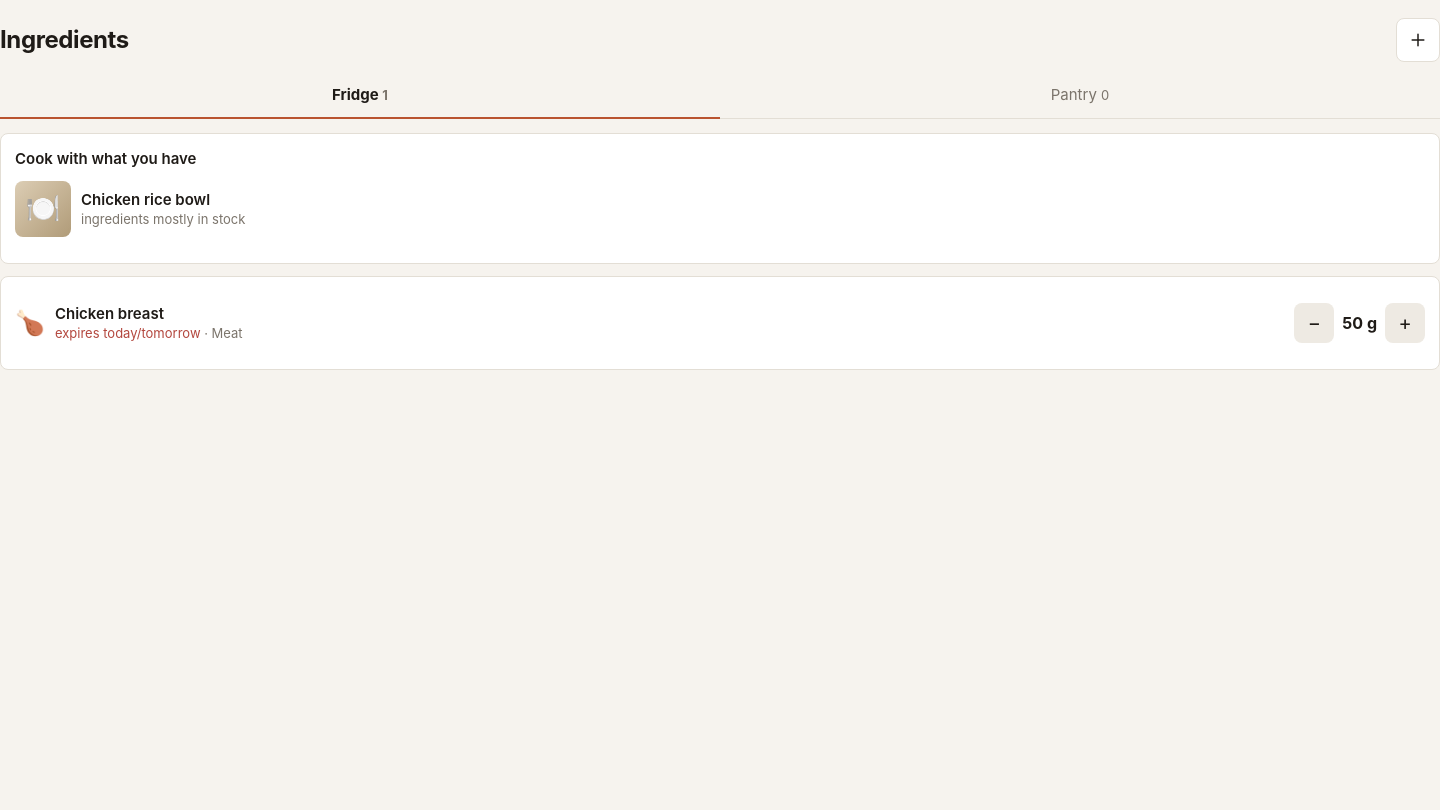
Test: IngredientsPage › "Keep it" closes the sheet without changes
Click the button named "Less Chicken breast" at [1314, 323], box top-left (1294, 303), bottom-right (1334, 343)
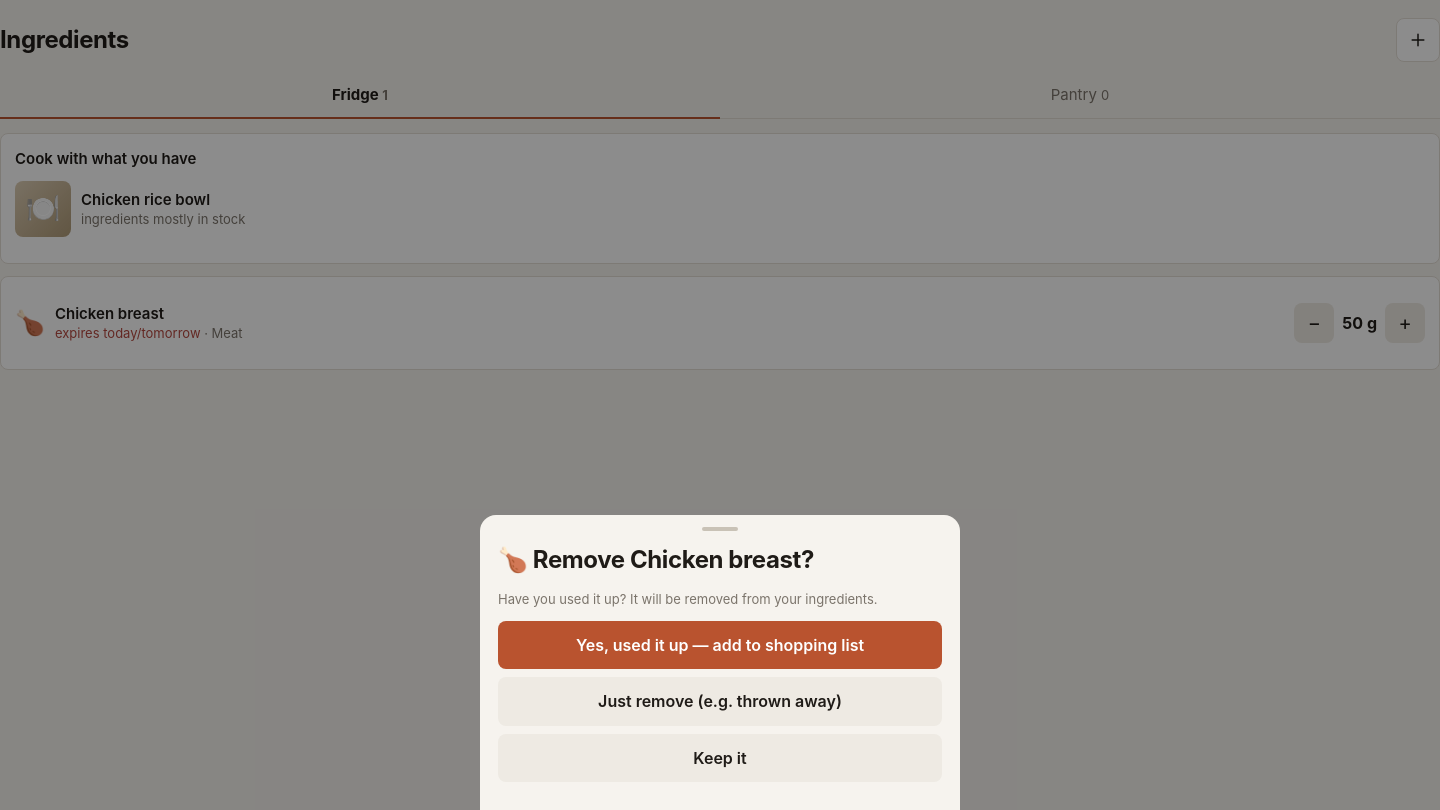
Click the button "Keep it" at [720, 758], box top-left (498, 734), bottom-right (942, 782)
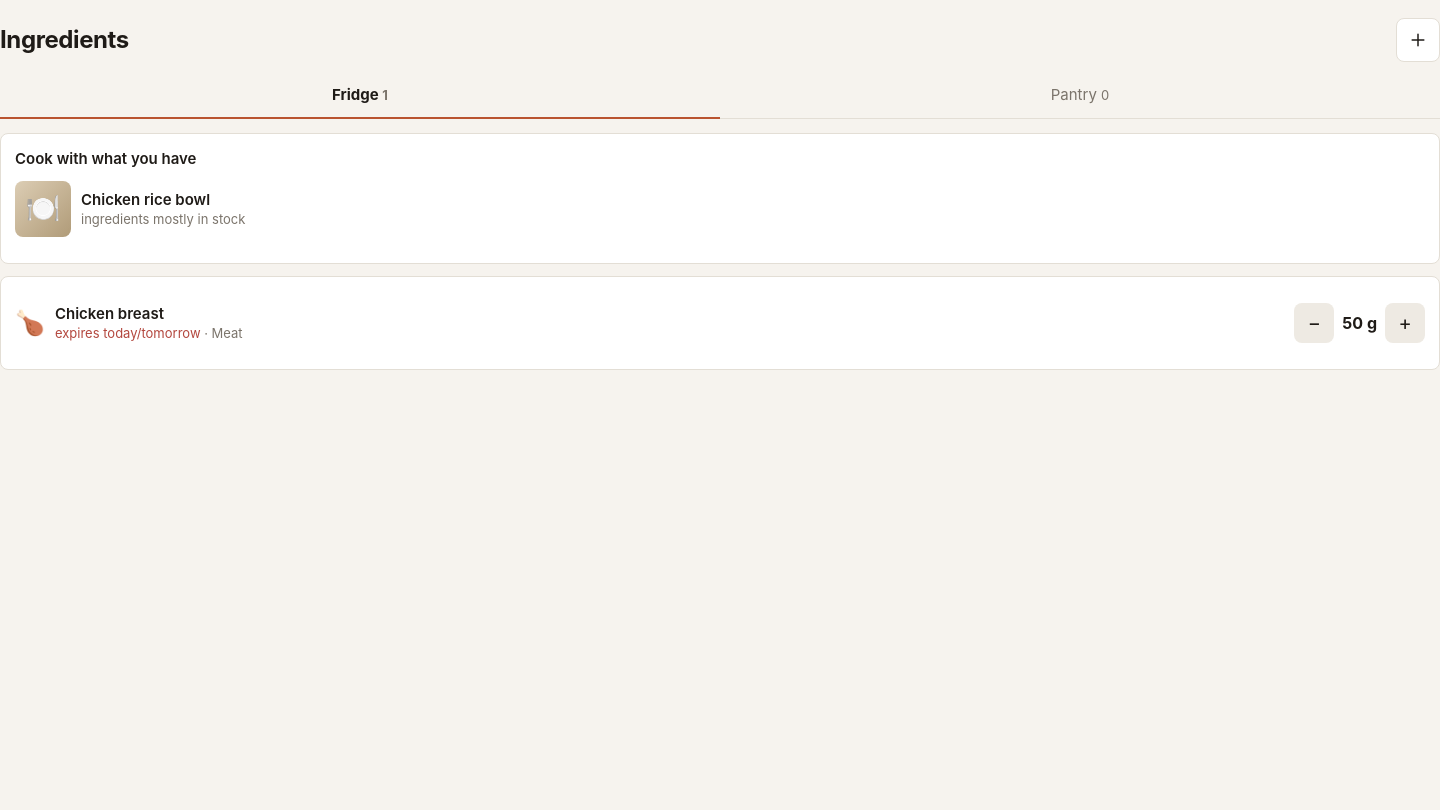
Result: the dialog is gone
